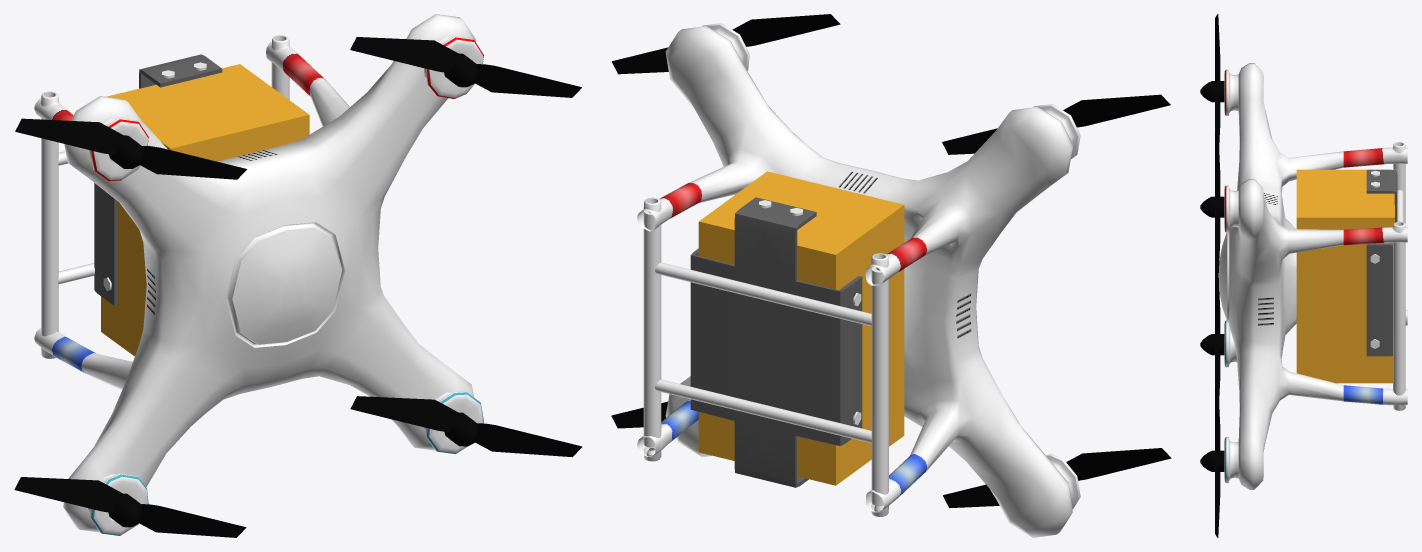
Rendered from drone_amvlab.obj.
3 renders of one model, left to right at view 1: azimuth 30°, elevation 25°; view 2: azimuth 150°, elevation 25°; view 3: azimuth 270°, elevation 25°, orthographic. The views are drawn at different scales.
Size of the model in its own units: 0.82 by 0.6522 by 0.3665.
1 material, 1 textured.
